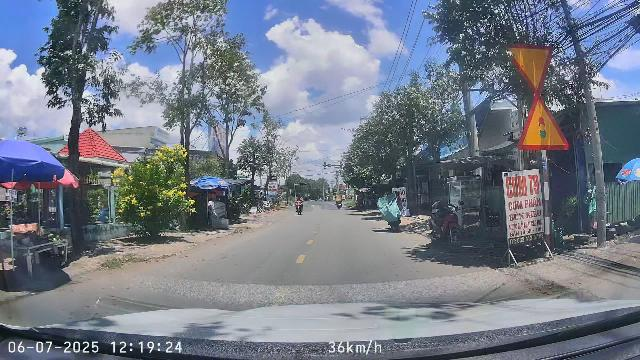208-giao-nhau-voi-duong-uu-tien: (505, 44, 553, 95)
209-giao-nhau-co-tin-hieu-den: (518, 96, 569, 150)
